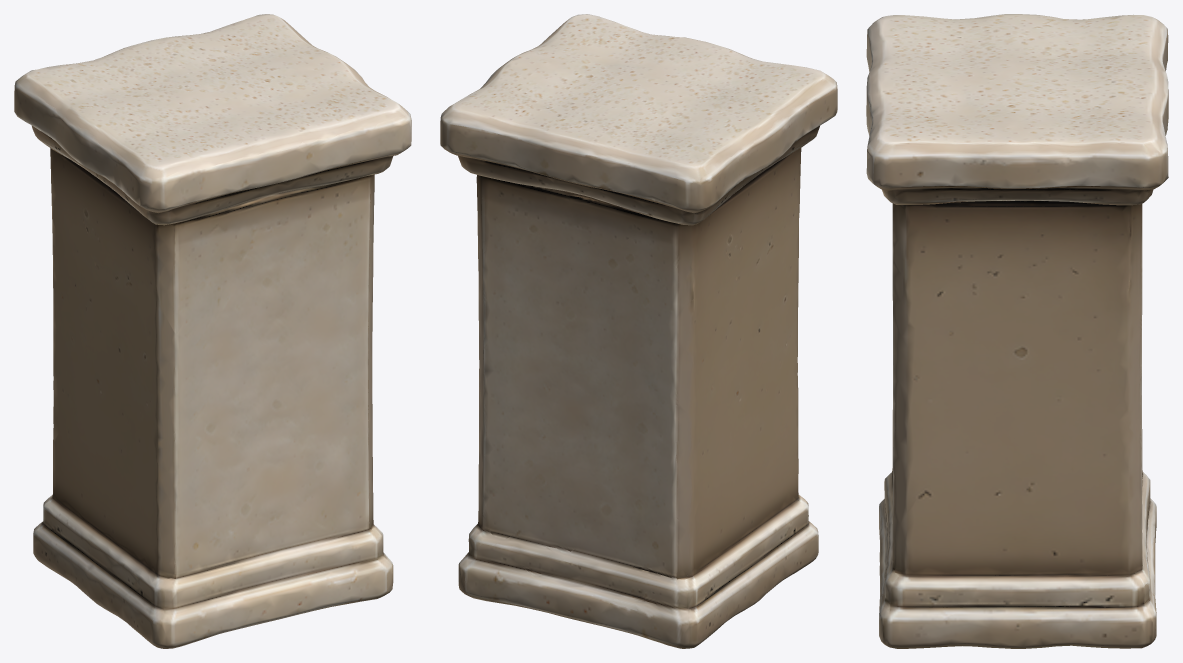
Rendered from 2_UpperPillar.glb.
3 renders of one model, left to right at view 1: azimuth 30°, elevation 25°; view 2: azimuth 150°, elevation 25°; view 3: azimuth 270°, elevation 25°, orthographic. The views are drawn at different scales.
Visible parts, largest first — view 1: input; view 2: input; view 3: input.
Part boxes in pixels (x1,y1,x2,y2): input: (14, 14, 411, 648); input: (440, 14, 837, 648); input: (866, 14, 1168, 648).
Size of the model in its own units: 0.5824 by 0.9997 by 0.5326.
1 material, 1 textured.
